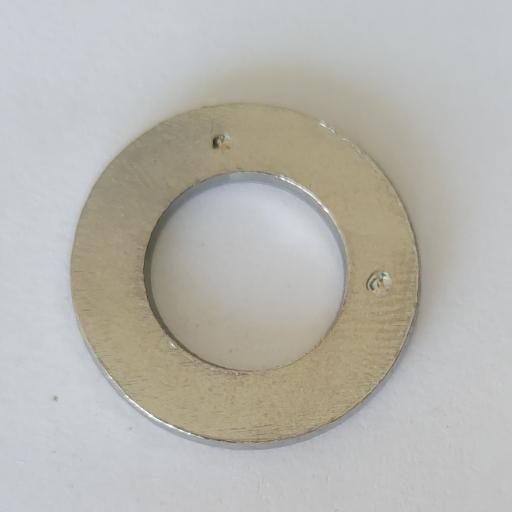circular_cavity: (364, 267, 393, 295), (211, 132, 231, 151)
